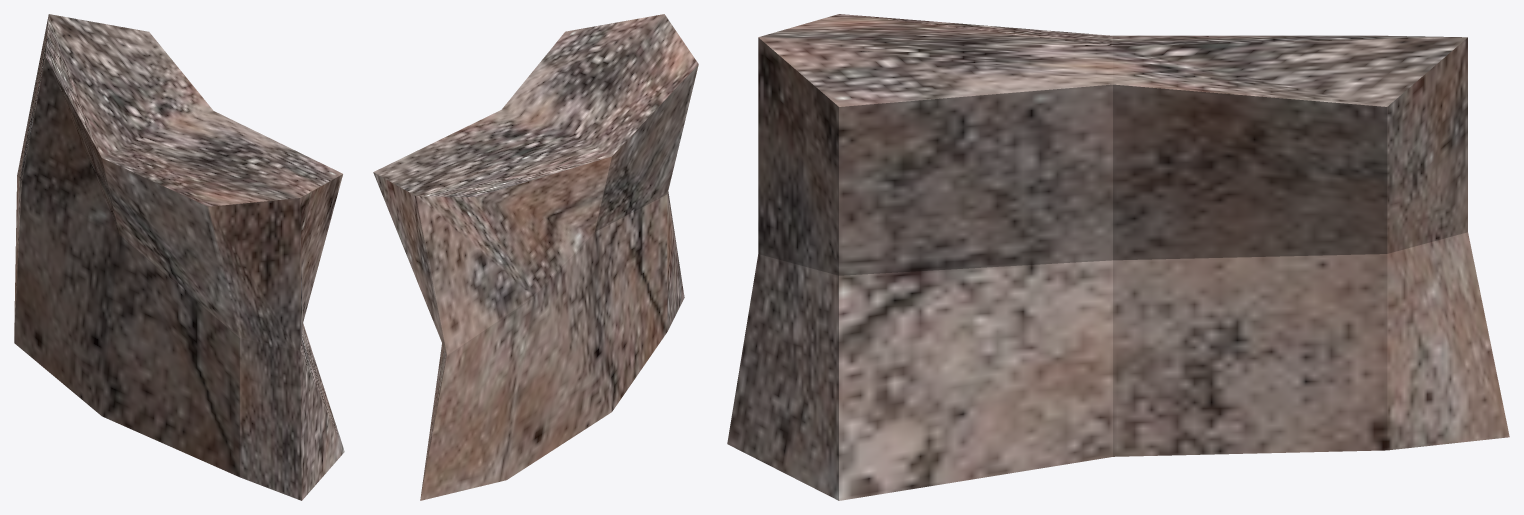
The model's file is stoneCliff.gltf.
The picture shows the model from 3 angles, left to right: view 1: azimuth 30°, elevation 25°; view 2: azimuth 150°, elevation 25°; view 3: azimuth 270°, elevation 25°; orthographic projection. The views are drawn at different scales.
Parts seen in each view (by area): view 1: Cliff; view 2: Cliff; view 3: Cliff.
Part boxes in pixels (<box>): Cliff: <box>14,14,344,500</box>; Cliff: <box>373,14,698,500</box>; Cliff: <box>727,14,1509,500</box>.
Bounding box in the file's own units: 1.56 × 2.98 × 5.12.
Materials: 1 (1 with a texture image).
